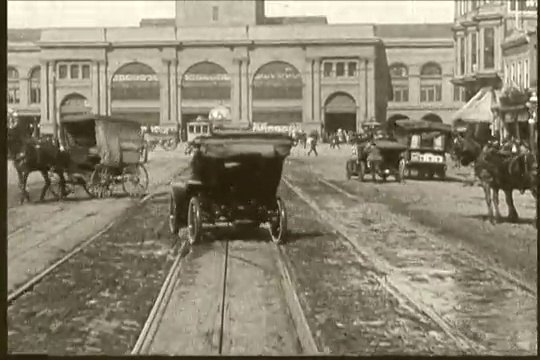car: (166, 124, 296, 251)
horse: (447, 129, 540, 231)
